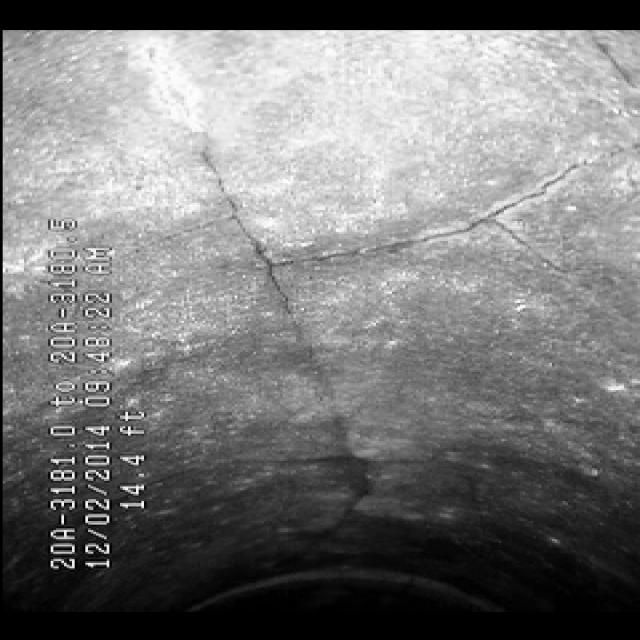Crack: (218, 193, 390, 547), (416, 131, 604, 276)
